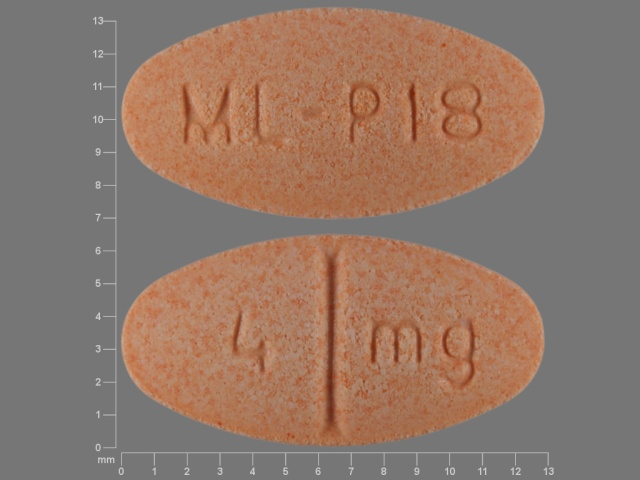1: (401, 80, 428, 146)
4: (228, 309, 272, 379)
8: (441, 80, 486, 142)
L: (249, 79, 302, 151)
M: (180, 78, 237, 149)
P: (344, 78, 382, 148)
mg: (370, 317, 480, 392)
|: (311, 230, 351, 450)
